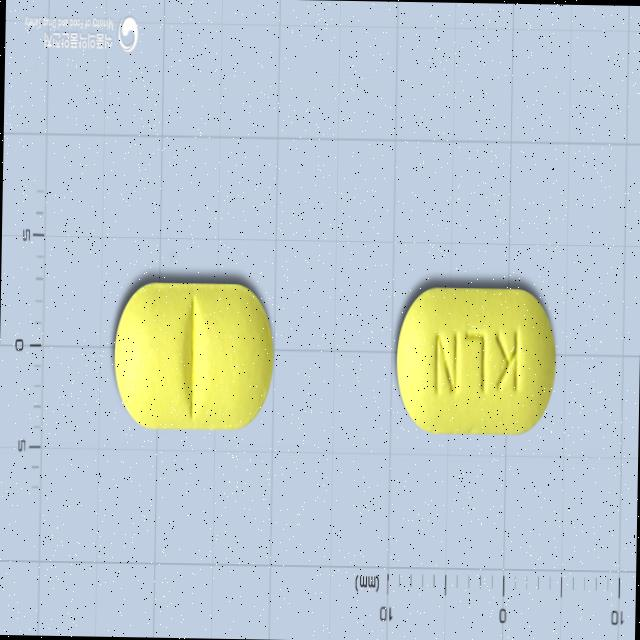Clarith: (393, 280, 560, 438), (110, 276, 276, 431)
